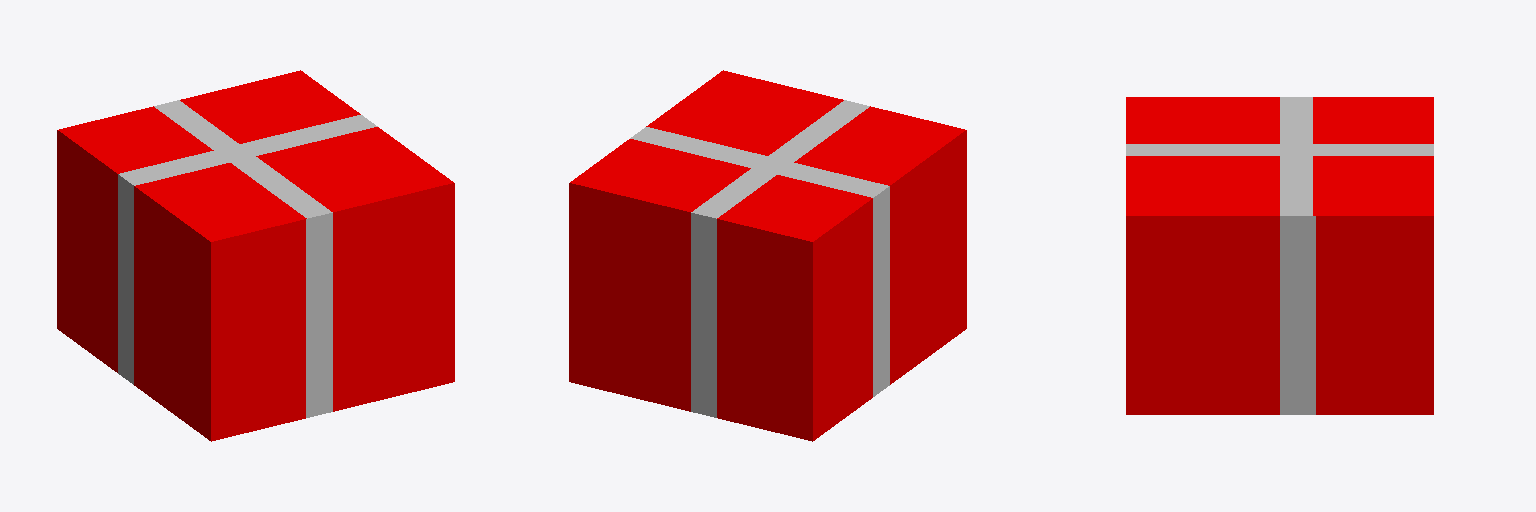
File: lahja1.obj
3 renders of one model, left to right at view 1: azimuth 30°, elevation 25°; view 2: azimuth 150°, elevation 25°; view 3: azimuth 270°, elevation 25°, orthographic.
Visible parts, largest first — view 1: lahja1-SKP-Color_A01, lahja1-SKP-Color_G01; view 2: lahja1-SKP-Color_A01, lahja1-SKP-Color_G01; view 3: lahja1-SKP-Color_A01, lahja1-SKP-Color_G01.
Part boxes in pixels (x1,y1,x2,y2): lahja1-SKP-Color_A01: (57, 70, 454, 441); lahja1-SKP-Color_G01: (118, 100, 377, 417); lahja1-SKP-Color_A01: (569, 70, 966, 441); lahja1-SKP-Color_G01: (630, 100, 889, 417); lahja1-SKP-Color_A01: (1126, 97, 1433, 414); lahja1-SKP-Color_G01: (1126, 97, 1433, 414).
Size of the model in its own units: 0.8857 by 0.6931 by 0.9677.